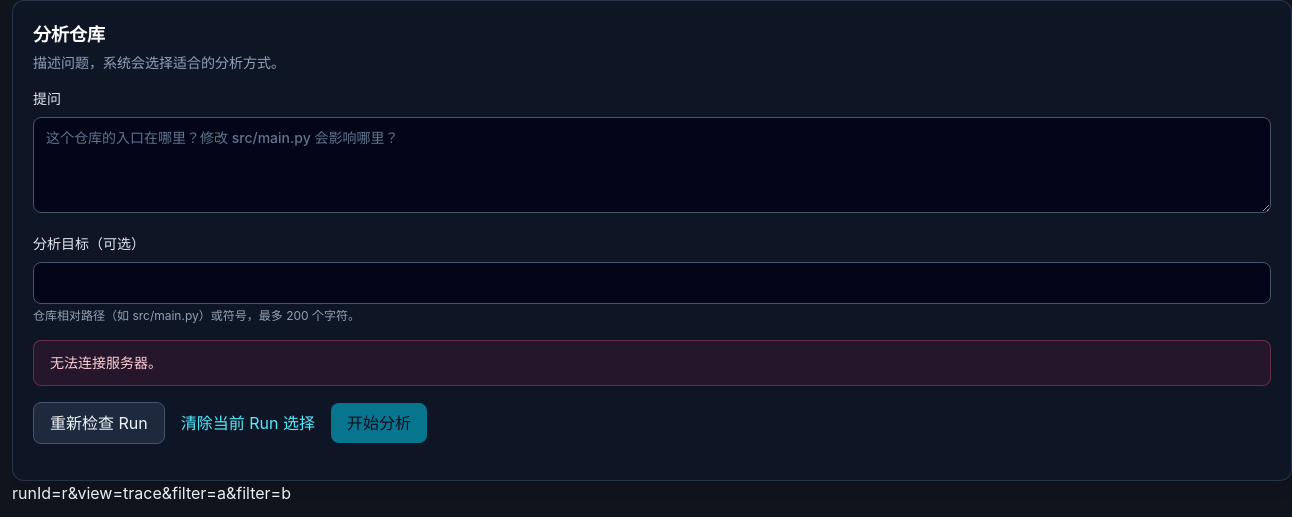
Test: recovers transient network failures through manual rechecking
This screenshot has width=1292, height=517.
Expected: the message shows "无法连接服务器", [50, 354, 162, 371]
Type "Question" into the text box labelled "提问" at (652, 165), box [33, 117, 1271, 213]
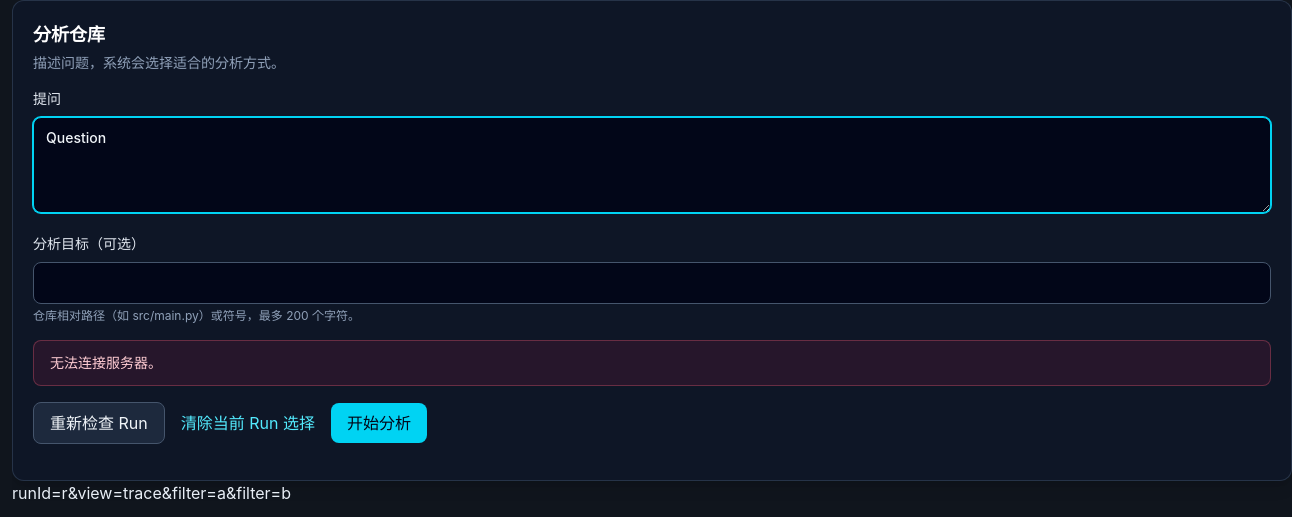
Expected: the button "开始分析" is enabled, [331, 403, 427, 443]
Click the button "重新检查 Run" at (99, 423), box [33, 402, 165, 444]
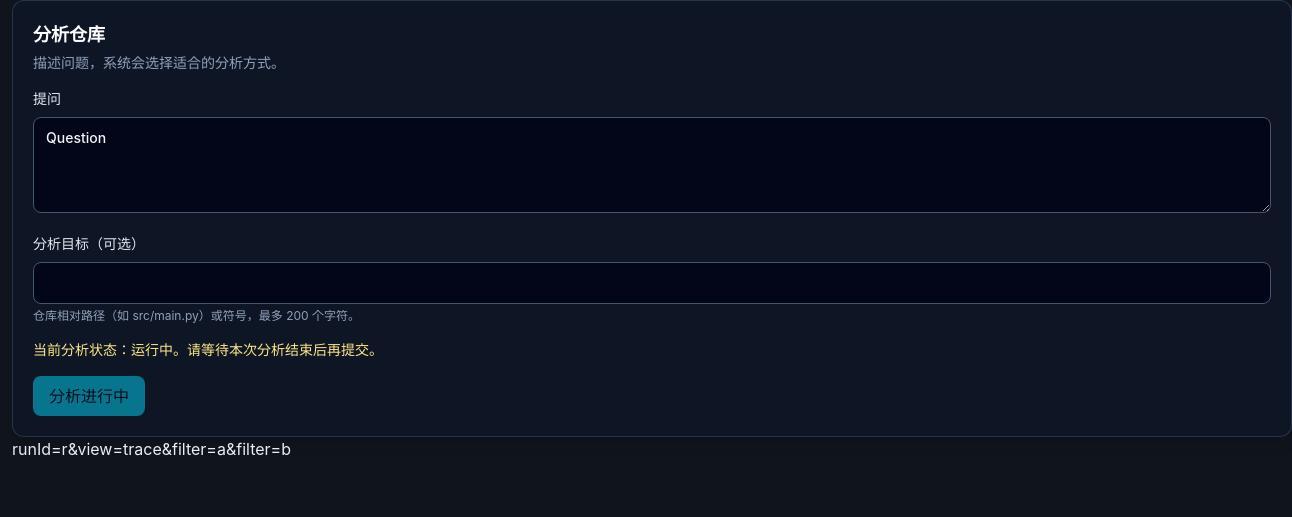
Expected: the button "分析进行中" is disabled, [33, 376, 145, 416]
